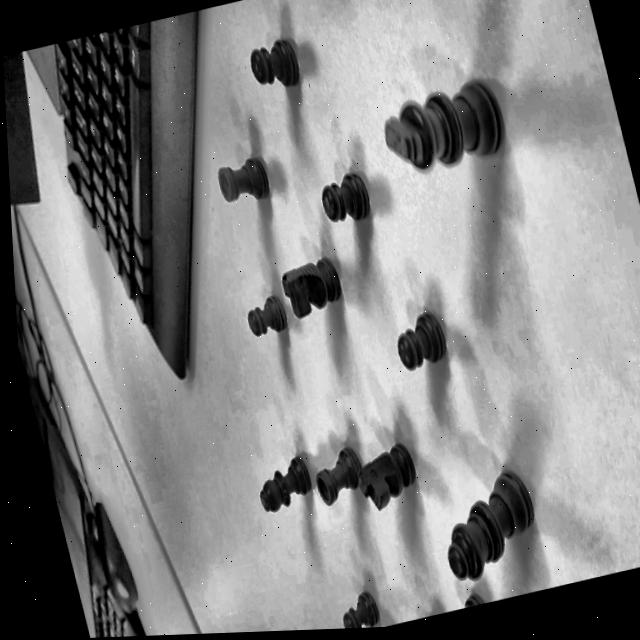black-bishop: (247, 442, 324, 527)
black-king: (363, 49, 525, 200)
black-knight: (343, 418, 430, 523), (272, 236, 354, 335)
black-pawn: (379, 283, 469, 398), (310, 151, 383, 246), (237, 21, 315, 102), (236, 283, 295, 356), (324, 571, 385, 629)
black-queen: (421, 449, 556, 592)
black-rook: (301, 427, 373, 529), (206, 136, 289, 213)
